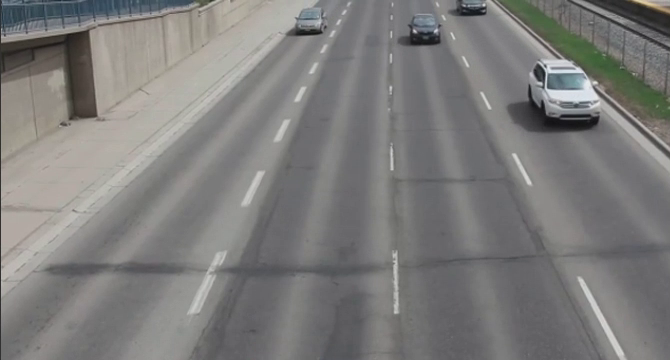car: (522, 52, 609, 132), (406, 12, 444, 47), (291, 7, 330, 37), (455, 1, 495, 18)
